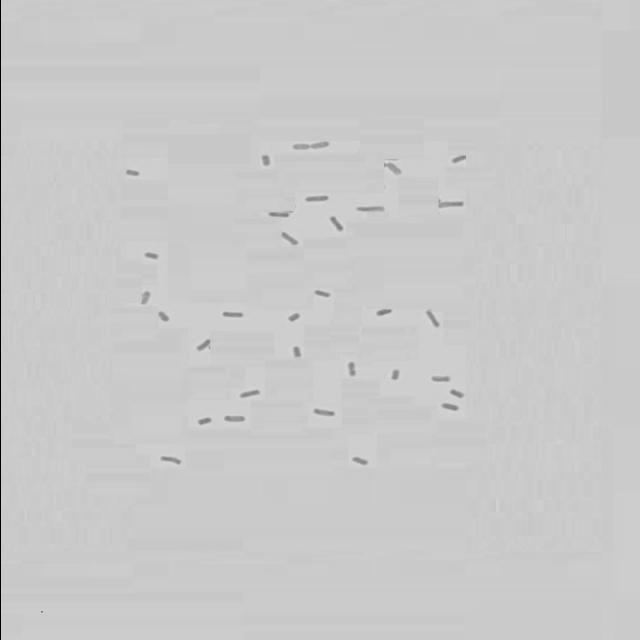E-coli: (351, 199, 387, 220), (428, 195, 467, 213), (418, 309, 446, 330), (153, 455, 188, 471), (189, 336, 213, 356), (233, 388, 267, 402), (219, 412, 253, 426), (279, 308, 305, 326), (311, 405, 341, 420), (324, 214, 346, 234), (419, 373, 455, 385), (131, 287, 151, 308), (278, 229, 300, 248), (379, 158, 401, 177), (215, 310, 245, 322), (251, 153, 273, 169), (267, 207, 294, 220), (298, 193, 333, 203), (371, 305, 396, 319), (310, 286, 336, 299), (346, 455, 370, 469), (340, 361, 358, 379), (194, 412, 212, 430), (384, 366, 404, 382), (138, 248, 160, 262), (124, 167, 144, 181), (286, 138, 306, 152), (439, 401, 459, 415), (308, 137, 330, 149), (446, 154, 469, 165), (445, 388, 463, 400), (289, 348, 305, 361), (155, 311, 168, 324)
